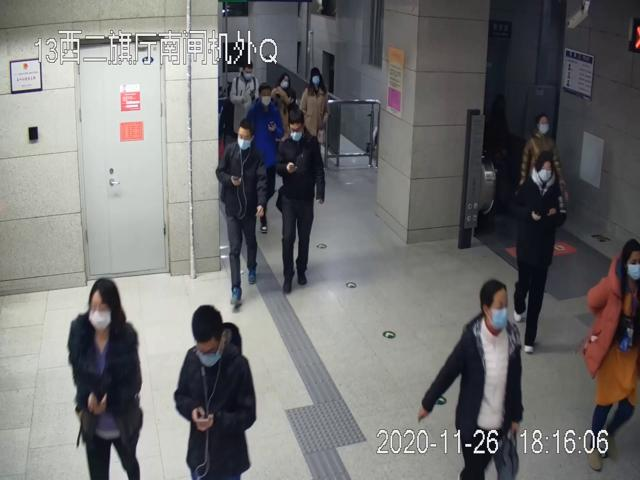person: (418, 277, 524, 480), (66, 276, 145, 480), (173, 302, 259, 480), (514, 152, 567, 355), (214, 113, 269, 303), (274, 109, 326, 294), (249, 81, 284, 232), (301, 68, 329, 157), (230, 62, 260, 138)
